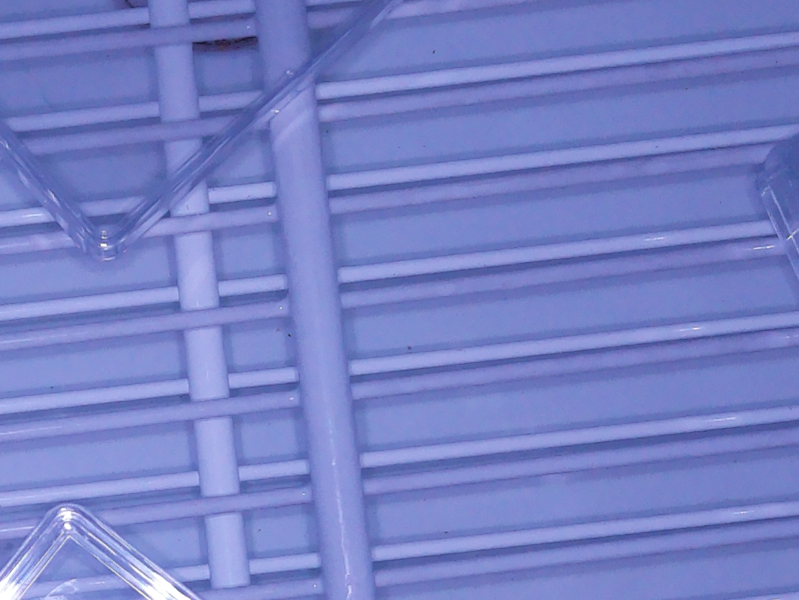plate: (1, 1, 392, 264), (1, 500, 199, 600), (755, 132, 799, 270)
